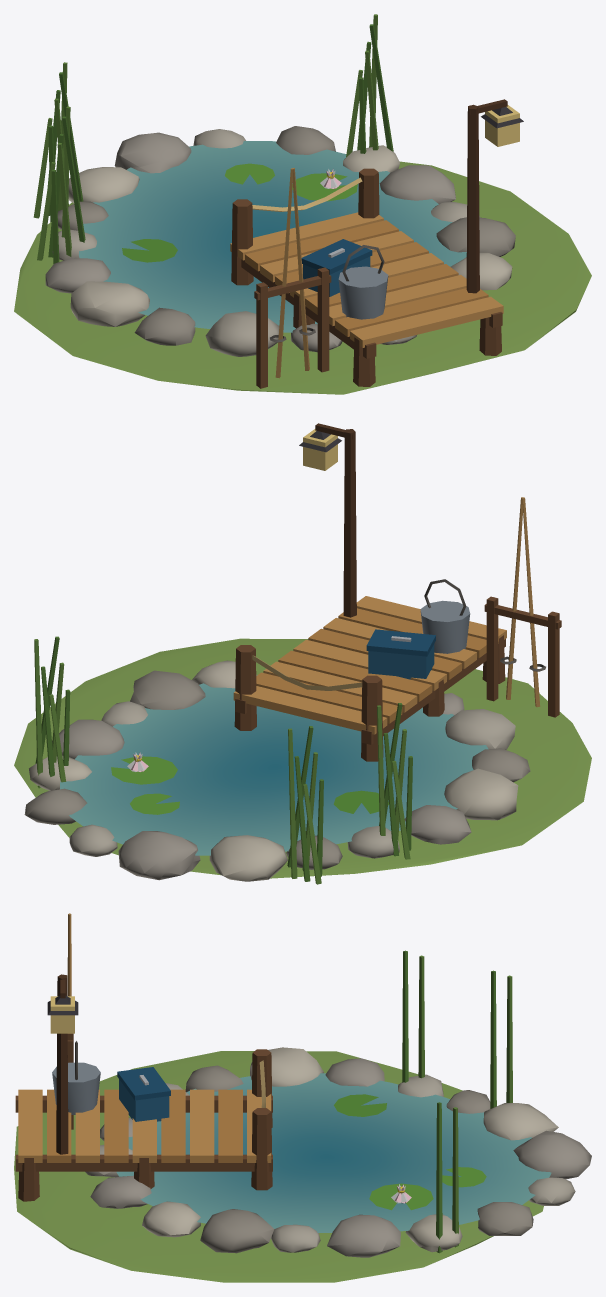
The model's file is pond_dock.glb.
The picture shows the model from 3 angles, top to bottom: view 1: azimuth 30°, elevation 25°; view 2: azimuth 150°, elevation 25°; view 3: azimuth 270°, elevation 25°; orthographic projection. The views are drawn at different scales.
Visible parts, largest first — view 1: decor-pond_dock; view 2: decor-pond_dock; view 3: decor-pond_dock.
Part boxes in pixels (x1,y1,x2,y2): decor-pond_dock: (14,14,591,394); decor-pond_dock: (14,423,591,884); decor-pond_dock: (14,913,591,1282).
Bounding box in the file's own units: 4.05 × 1.85 × 4.27.
